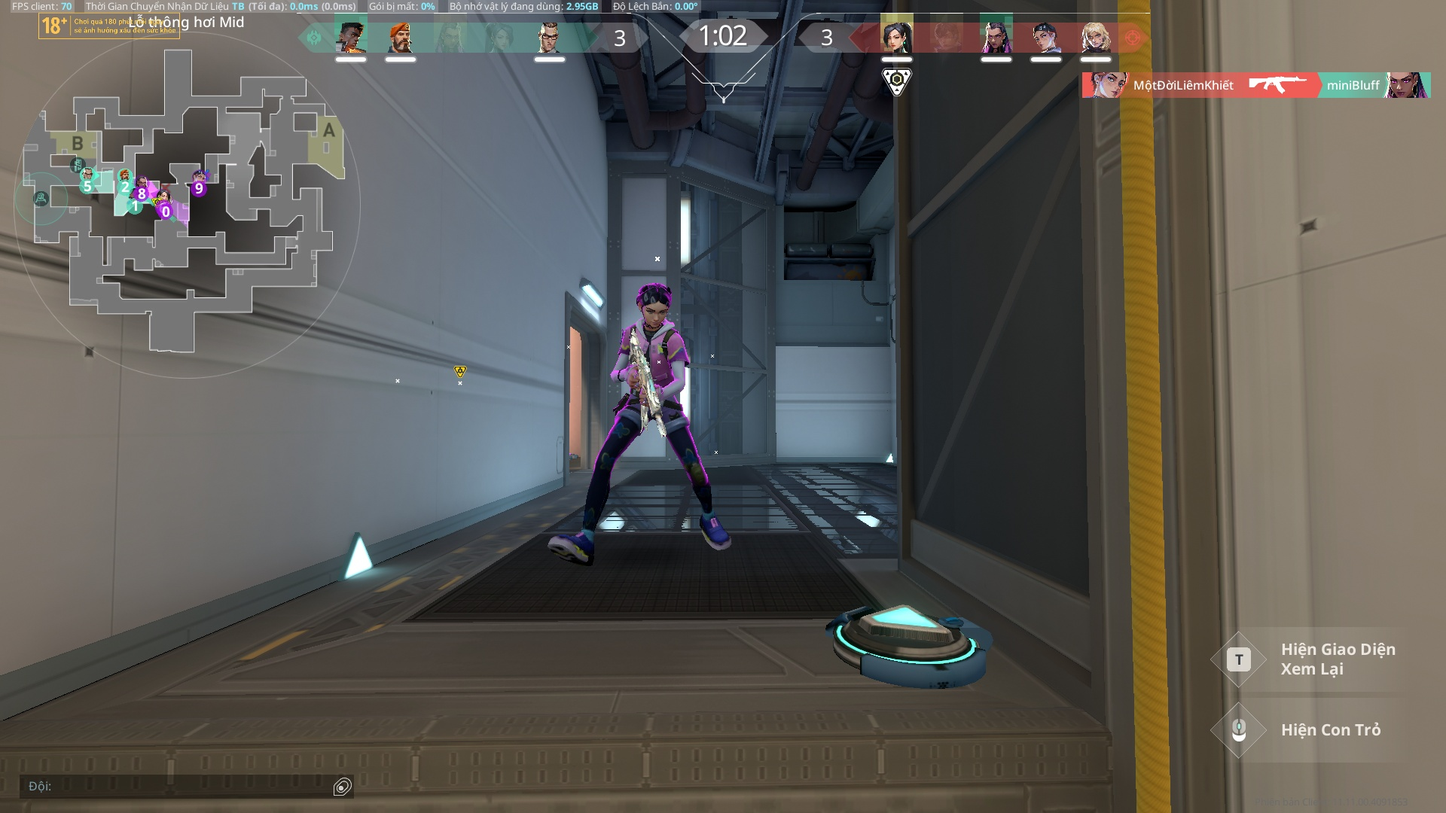body: (617, 318, 686, 391)
head: (636, 285, 670, 322)
